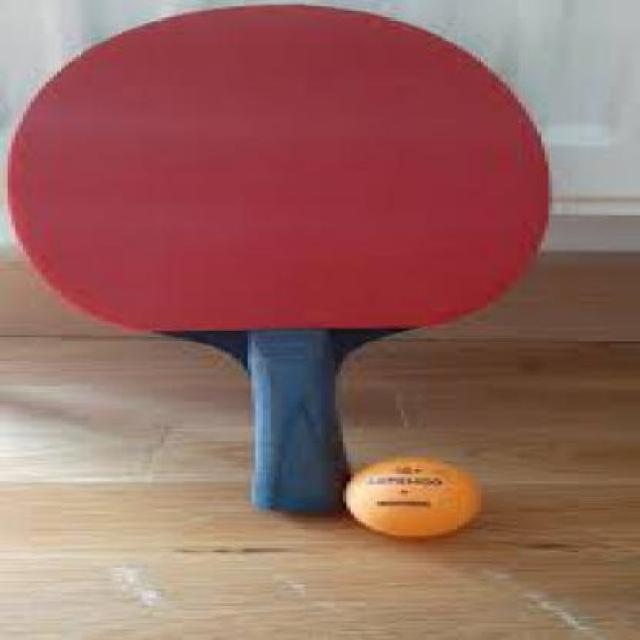table_tennis_racket: (0, 0, 565, 360)
